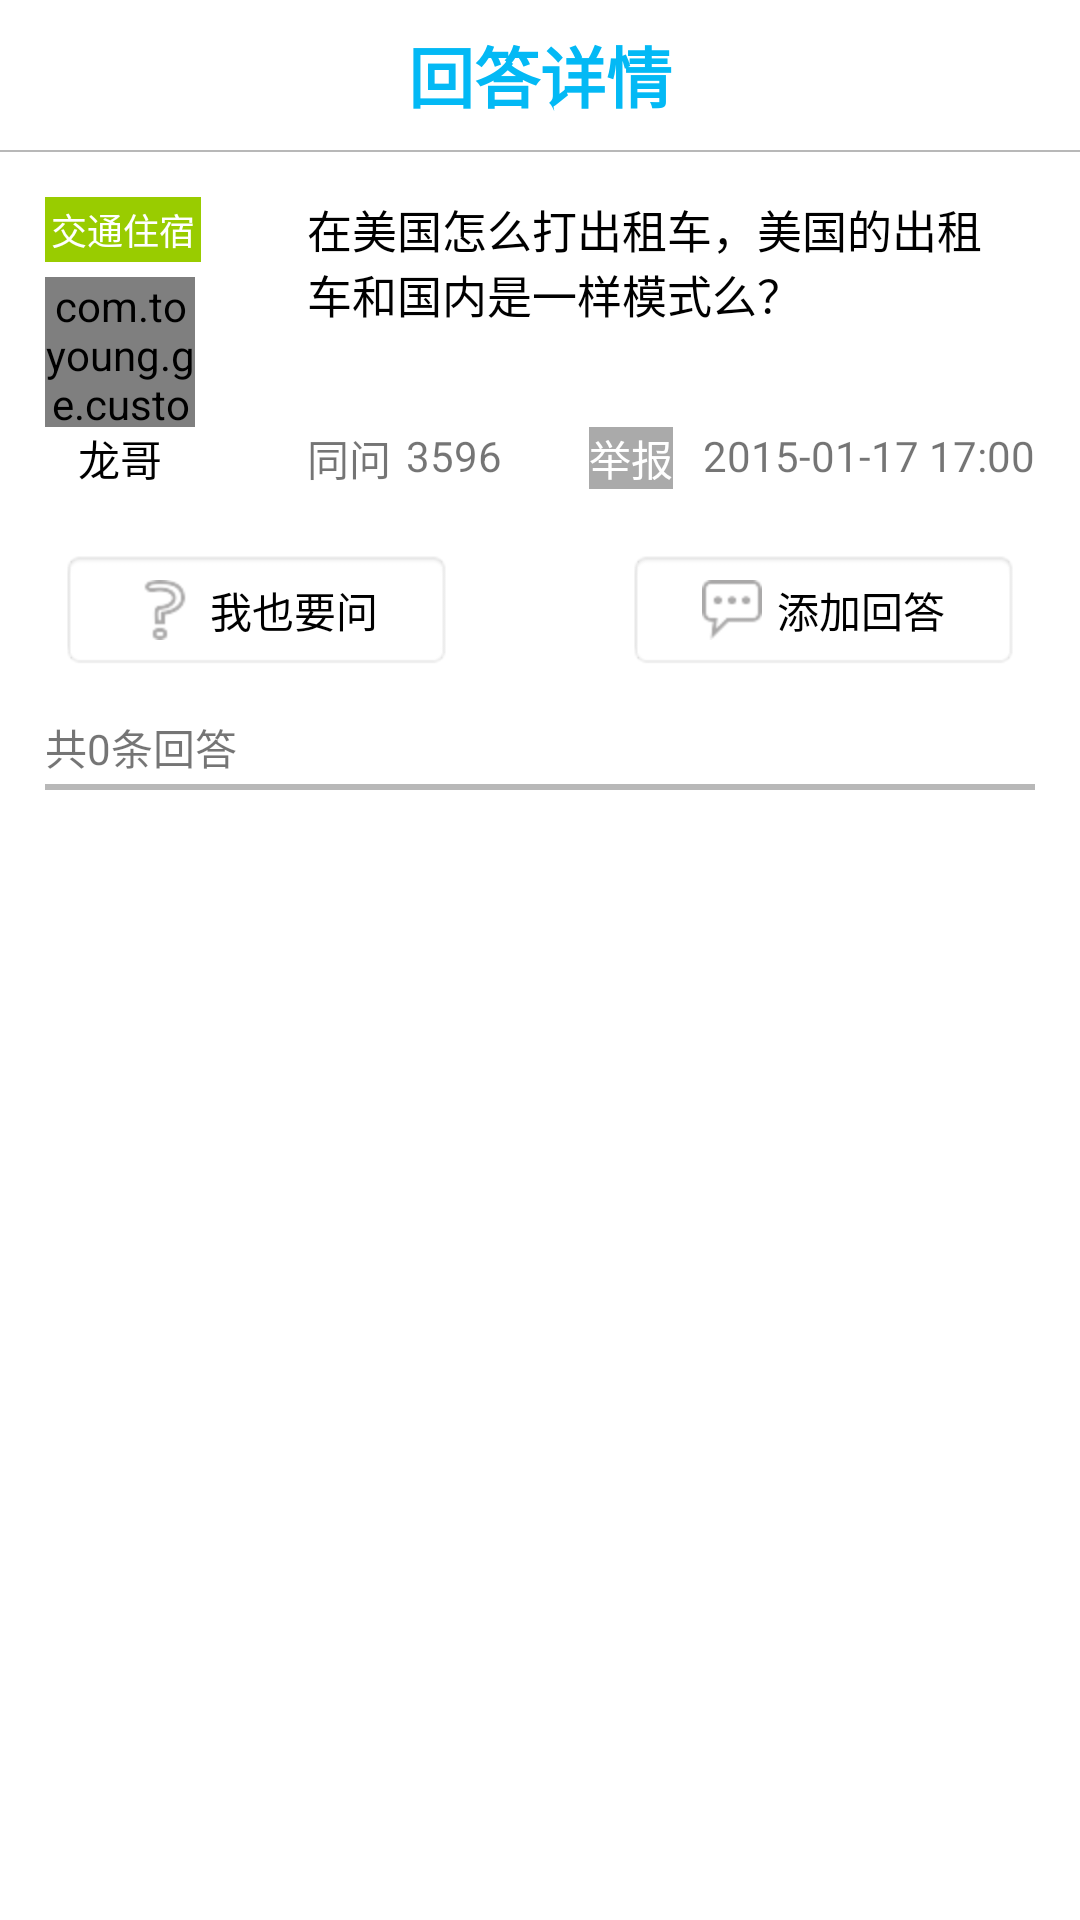

Screen size 1080×1920. Icon name, then its center in pixels as [x,y]:
answer give: [732,609]
question add: [165,610]
